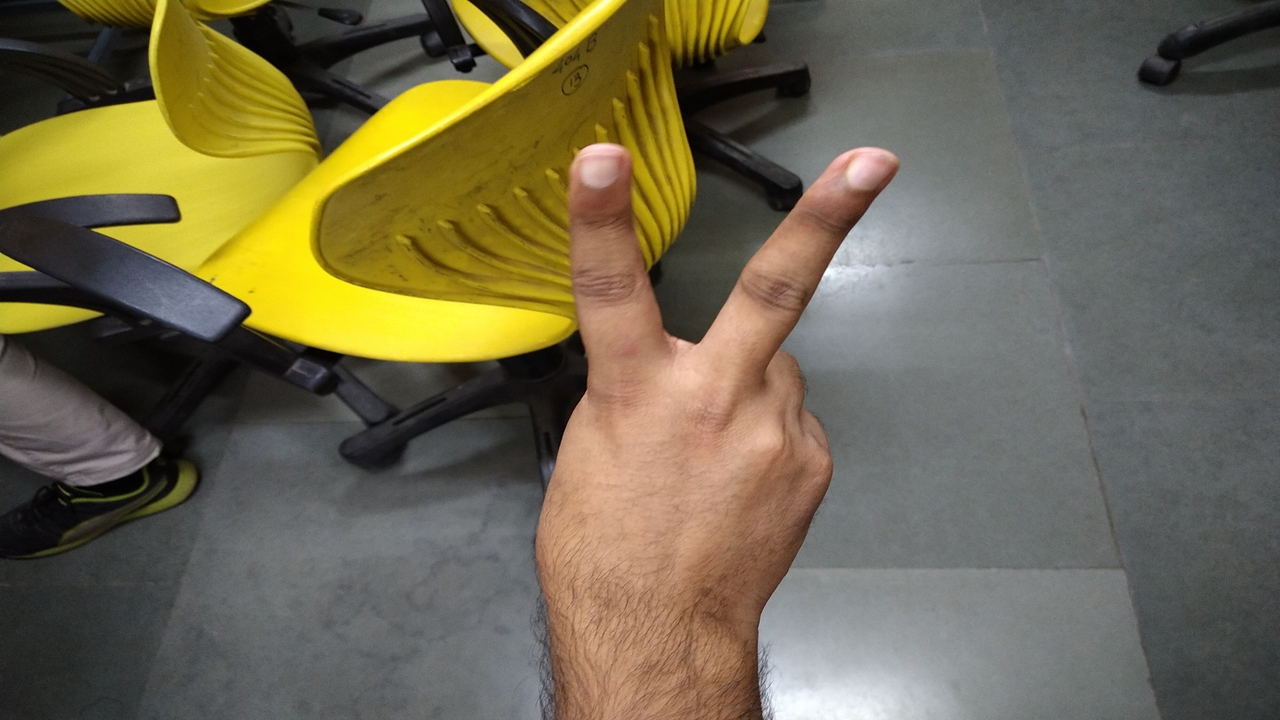fingertip: (560, 138, 630, 210), (826, 138, 906, 200)
